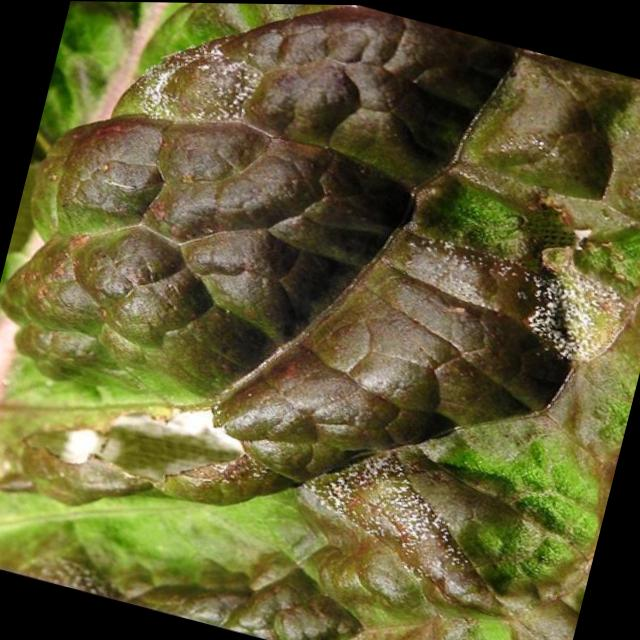Bad: (96, 85, 640, 612), (3, 24, 355, 405)
